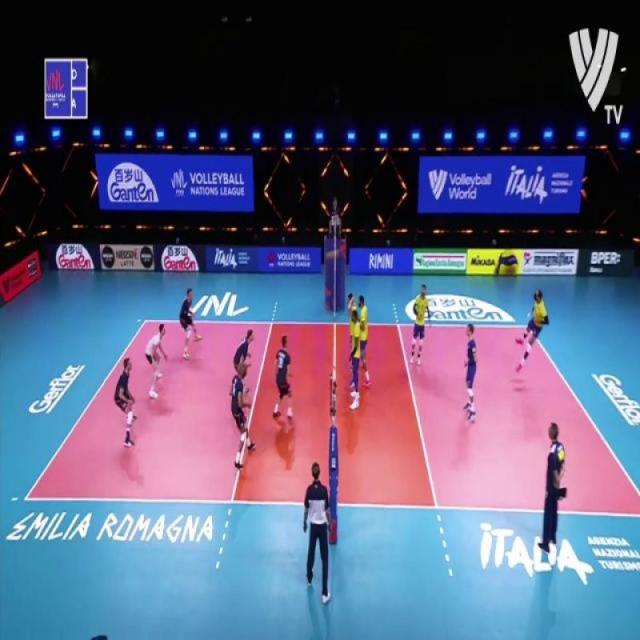volleyball: (494, 250, 518, 278)
